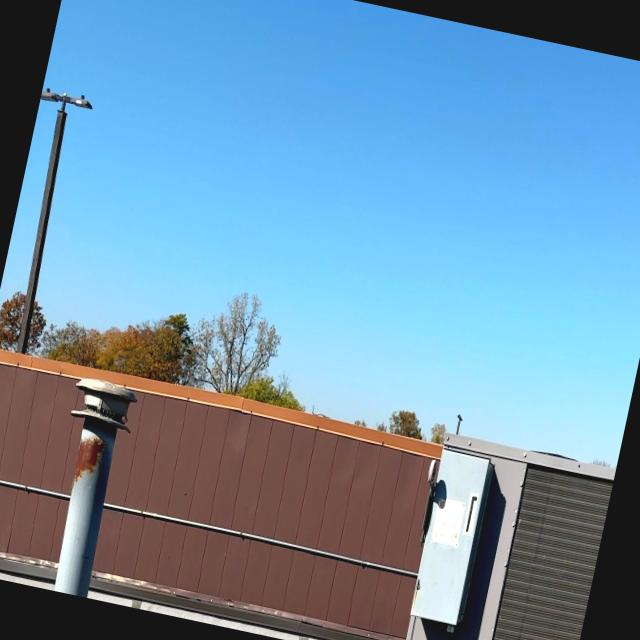GRAVITY-VENT: (28, 357, 162, 603)
RTU: (384, 406, 620, 640)
